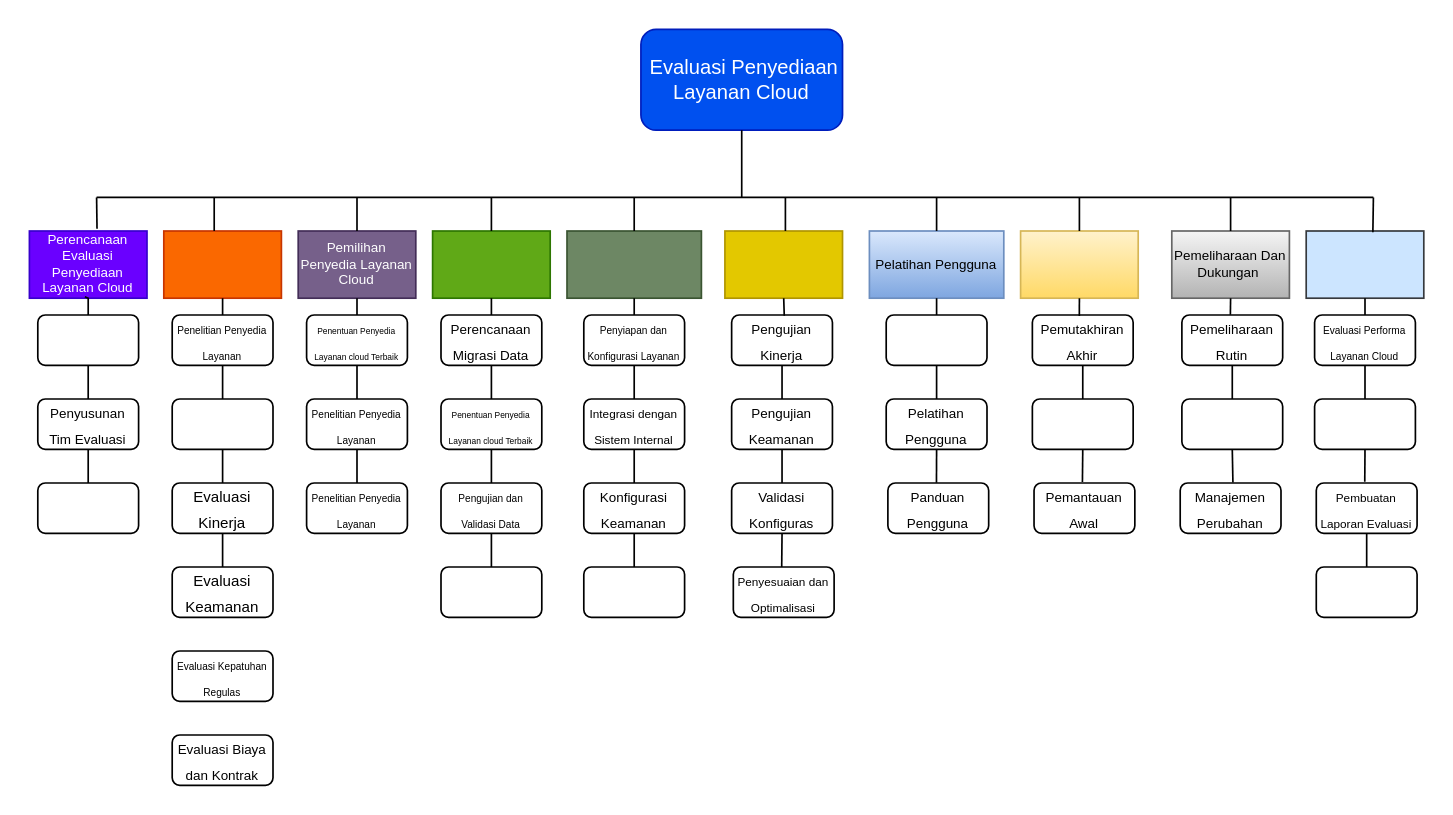
The diagram is 1453 pixels wide and 815 high, and some of its shapes have lost their labels. Here are the shapes that lost their labels. From the top down, the centre of each, then its label:
At (x=221, y=263): "Evaluasi Penyedia Layanan Cloud".
At (x=490, y=263): "Migrasi Data Ke Layanan Cloud".
At (x=633, y=263): "Konfigurasi Layanan Cloud".
At (x=783, y=263): "Pengujian Dan Penyesuaian".
At (x=1078, y=263): "Peluncuran Layana Cloud".
At (x=1364, y=263): "Evaluasi Pasca-Implementasi".
At (x=87, y=339): "Identifikasi Kebutuhan Bisnis".
At (x=936, y=339): "Persiapan Materi Pelatihan".
At (x=222, y=423): "Evaluasi Fitur dan Fungsi".
At (x=1082, y=423): "Peluncuran Operasional".
At (x=1231, y=423): "Dukungan Pengguna".
At (x=1364, y=423): "Umpan Balik Pengguna".
At (x=87, y=507): "Penetapan Kriteria Evaluas".
At (x=490, y=591): "Pelaksanaan Migrasi Data".
At (x=633, y=591): "Pengaturan Manajemen Akses".
At (x=1366, y=591): "Rekomendasi Perbaikan".
